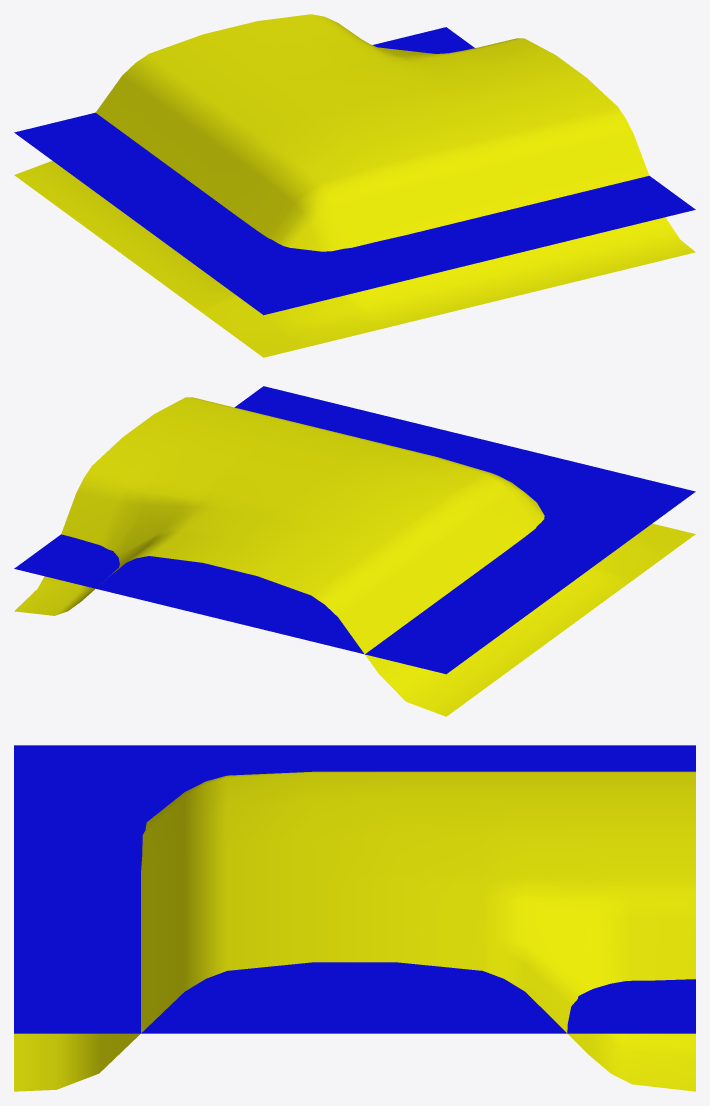
Rendered from Swamp_Lane_L.fbx.
3 renders of one model, top to bottom at view 1: azimuth 30°, elevation 25°; view 2: azimuth 150°, elevation 25°; view 3: azimuth 270°, elevation 25°, orthographic. The views are drawn at different scales.
Visible parts, largest first — view 1: path_low, water_low; view 2: path_low, water_low; view 3: path_low, water_low.
Part boxes in pixels (x1,y1,x2,y2): path_low: [14, 14, 695, 357]; water_low: [14, 27, 695, 315]; path_low: [14, 397, 695, 716]; water_low: [14, 386, 695, 674]; path_low: [14, 771, 695, 1091]; water_low: [14, 745, 695, 1033].
Bounding box in the file's own units: 2 × 0.4189 × 2.
